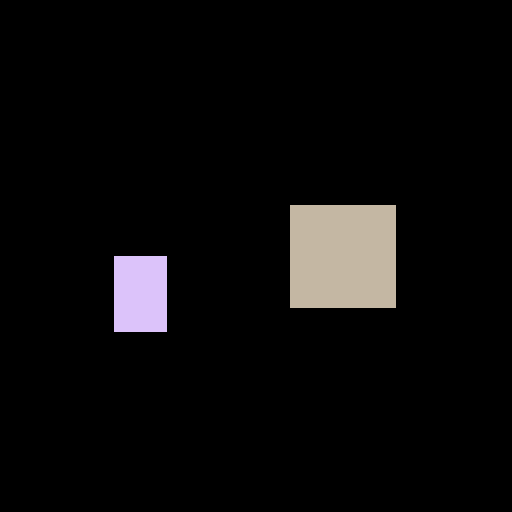rectangle: (114, 256, 166, 331)
square: (290, 205, 395, 307)
